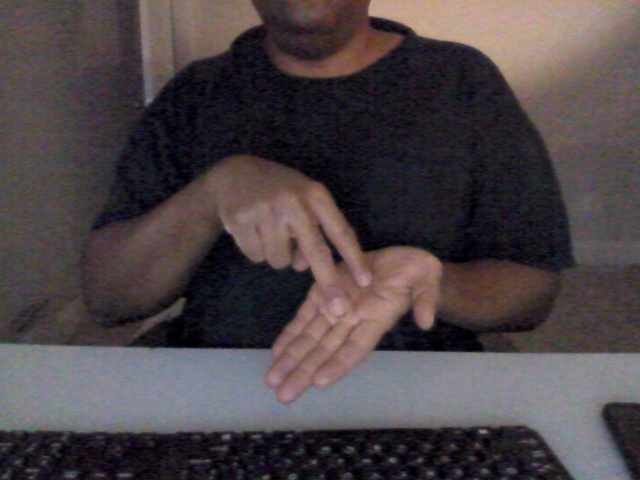fork: (206, 153, 441, 409)
